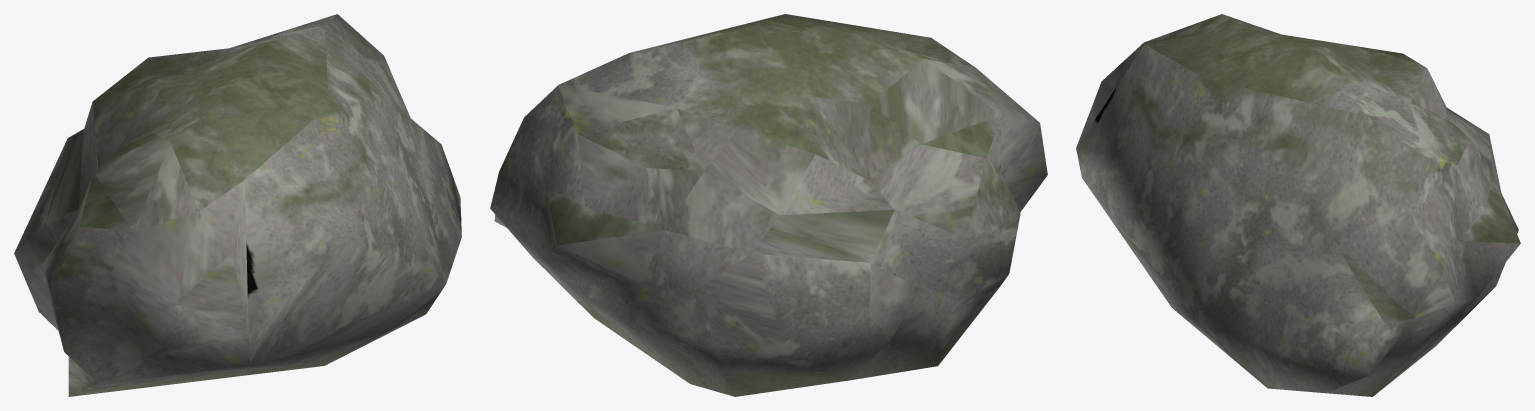
The model's file is boulder_400_LOD2.glb.
3 renders of one model, left to right at view 1: azimuth 30°, elevation 25°; view 2: azimuth 150°, elevation 25°; view 3: azimuth 270°, elevation 25°, orthographic. The views are drawn at different scales.
Visible parts, largest first — view 1: Boulder_400_LOD2; view 2: Boulder_400_LOD2; view 3: Boulder_400_LOD2.
Boxes of the visible parts, box(x1,y1,x2,y2) form: Boulder_400_LOD2: box(14, 14, 461, 396); Boulder_400_LOD2: box(490, 14, 1047, 396); Boulder_400_LOD2: box(1076, 14, 1520, 396).
Bounding box in the file's own units: 3.76 × 2.37 × 3.2.
1 material, 1 textured.
